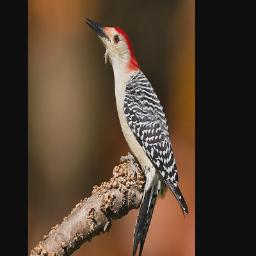Woodpecker: (85, 17, 190, 256)
